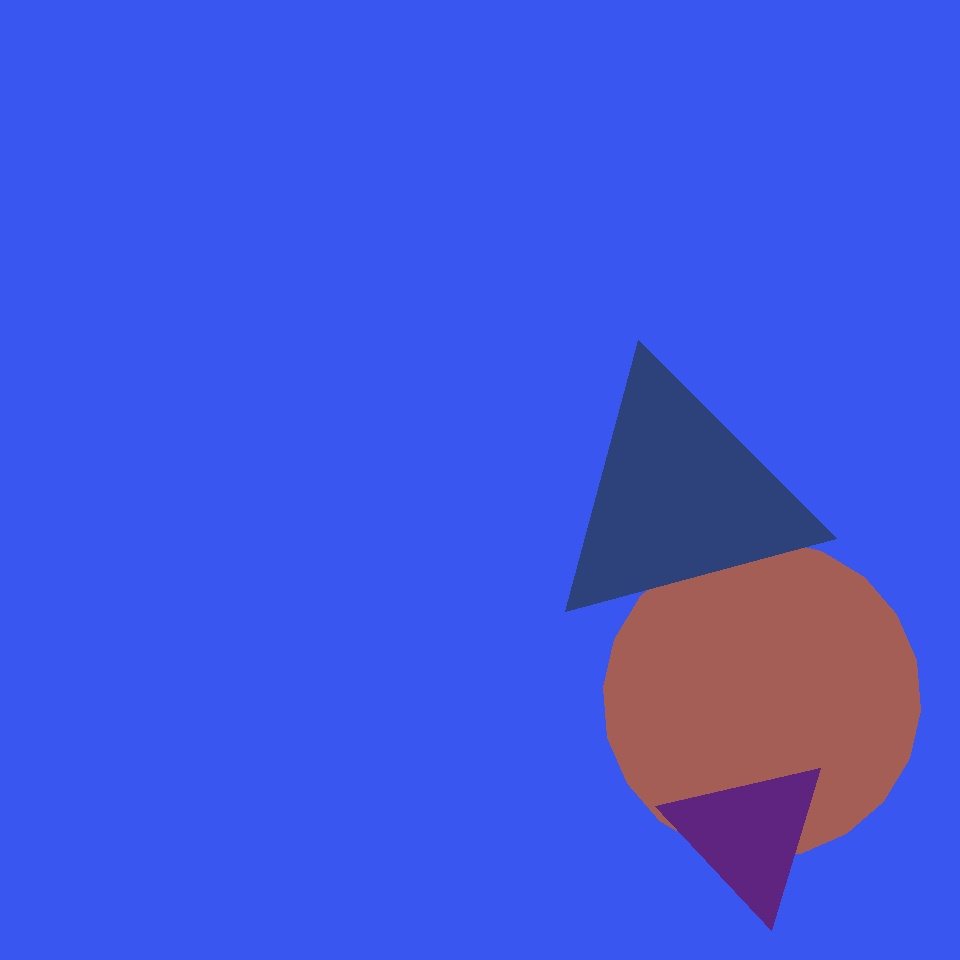circle: (545, 362, 816, 632), (666, 754, 832, 916)
triangle: (604, 540, 920, 858)
